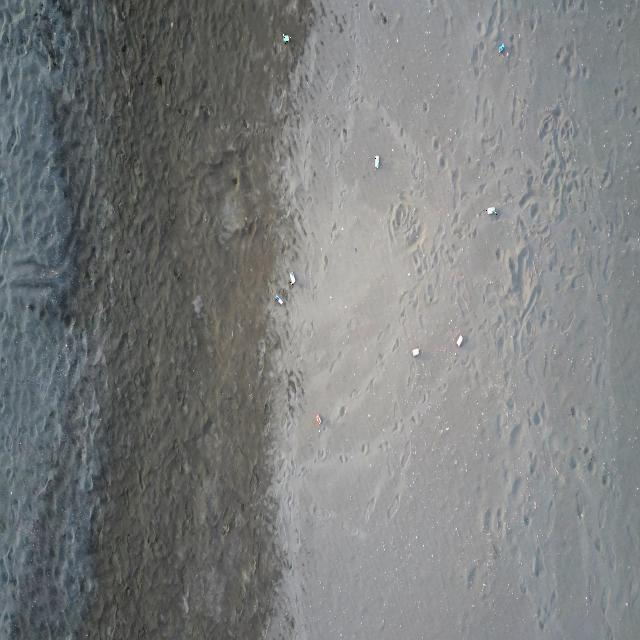tin-and-aluminum-cans: (486, 206, 498, 215), (289, 270, 296, 285), (411, 347, 421, 357), (275, 294, 284, 305), (456, 335, 464, 347), (374, 152, 380, 168), (283, 34, 291, 44), (316, 413, 322, 426), (498, 43, 505, 53)
